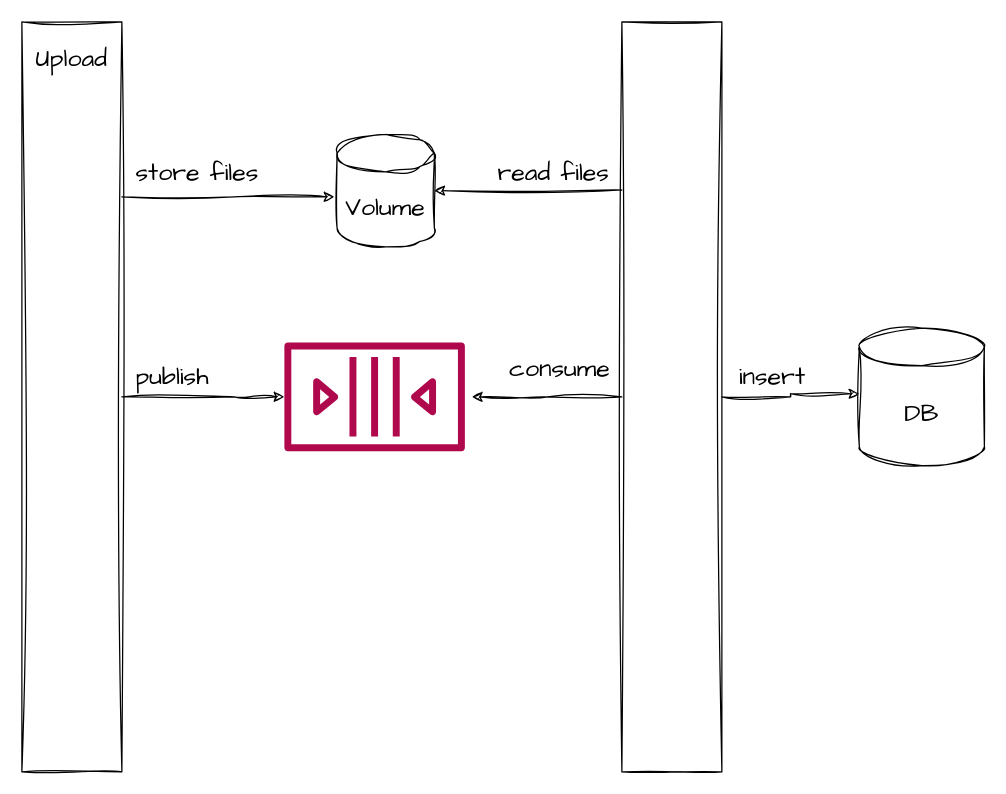
The diagram is 1006 pixels wide and 794 high, and some of its shapes have lost their labels. The shapes that lost their labels are listed below. From the top down, each one's box as (x1, y1, x2, y2) in pixels, then its label:
(284, 342, 464, 451): Message queue
(621, 21, 722, 772): worker
